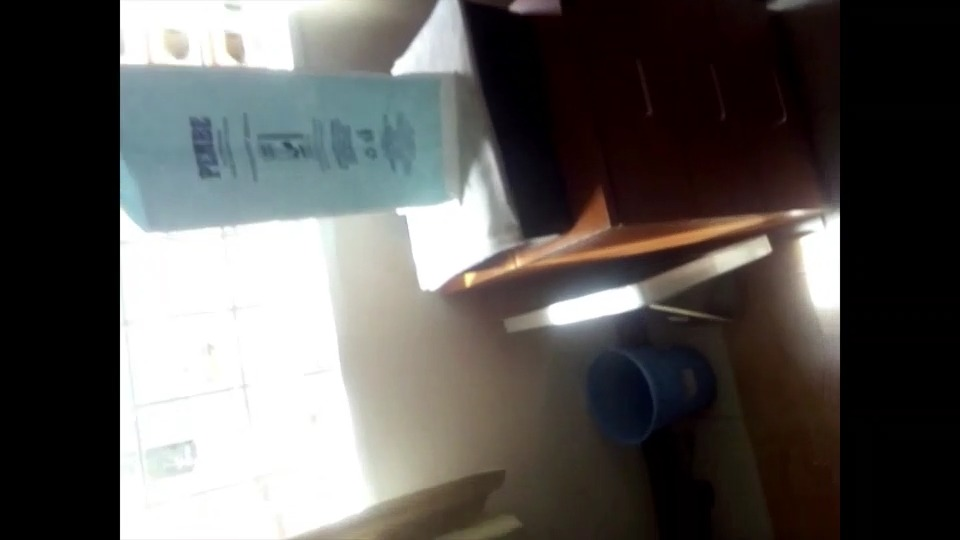wheat_flour_blue_label: (117, 66, 484, 233)
